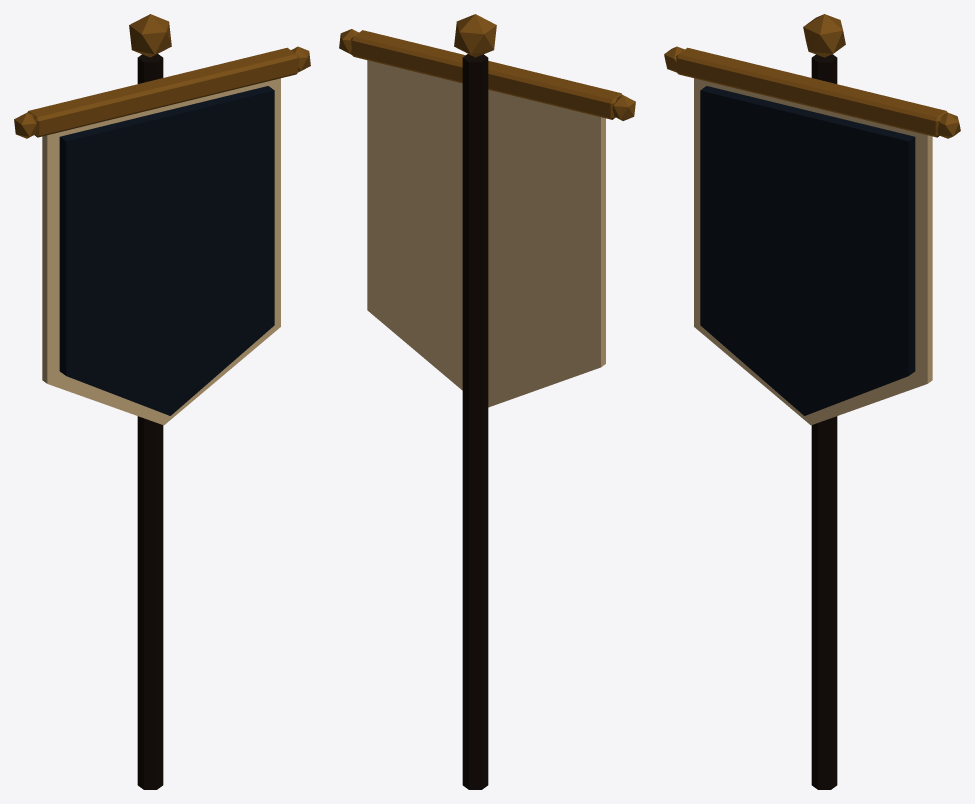
The model's file is settle_banner.obj.
3 views of the same model, side by side, from view 1: azimuth 30°, elevation 25°; view 2: azimuth 150°, elevation 25°; view 3: azimuth 330°, elevation 25° (orthographic).
Parts seen in each view (by area): view 1: core_blazon, core_wood_dark, core_gold, core_white; view 2: core_white, core_wood_dark, core_gold; view 3: core_blazon, core_wood_dark, core_gold, core_white.
Part boxes in pixels (x1,y1,x2,y2): core_blazon: (59,86,274,415); core_wood_dark: (137,54,163,789); core_gold: (14,14,310,138); core_white: (42,78,280,425); core_white: (367,60,605,407); core_wood_dark: (462,54,488,789); core_gold: (339,14,635,120); core_blazon: (700,86,915,415); core_wood_dark: (811,54,837,789); core_gold: (664,14,960,138); core_white: (694,78,932,425).
Bounding box in the file's own units: 0.4222 × 1.06 × 0.0755.
